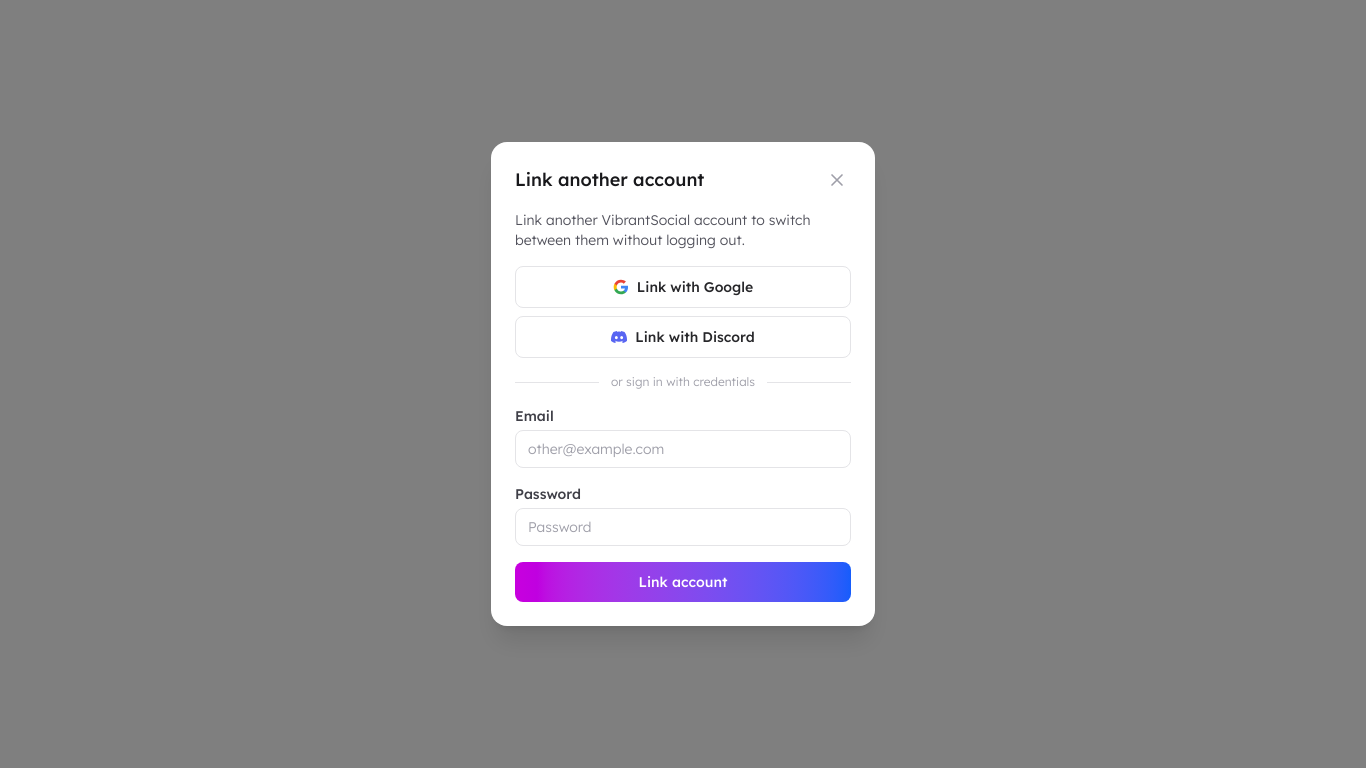
Test: LinkAccountModal › shows Redirecting text when OAuth button is clicked
The width and height of the screenshot is (1366, 768).
Click the button with test id "link-google-button" at {"x": 683, "y": 287}, box x1=515 y1=266 x2=851 y2=308
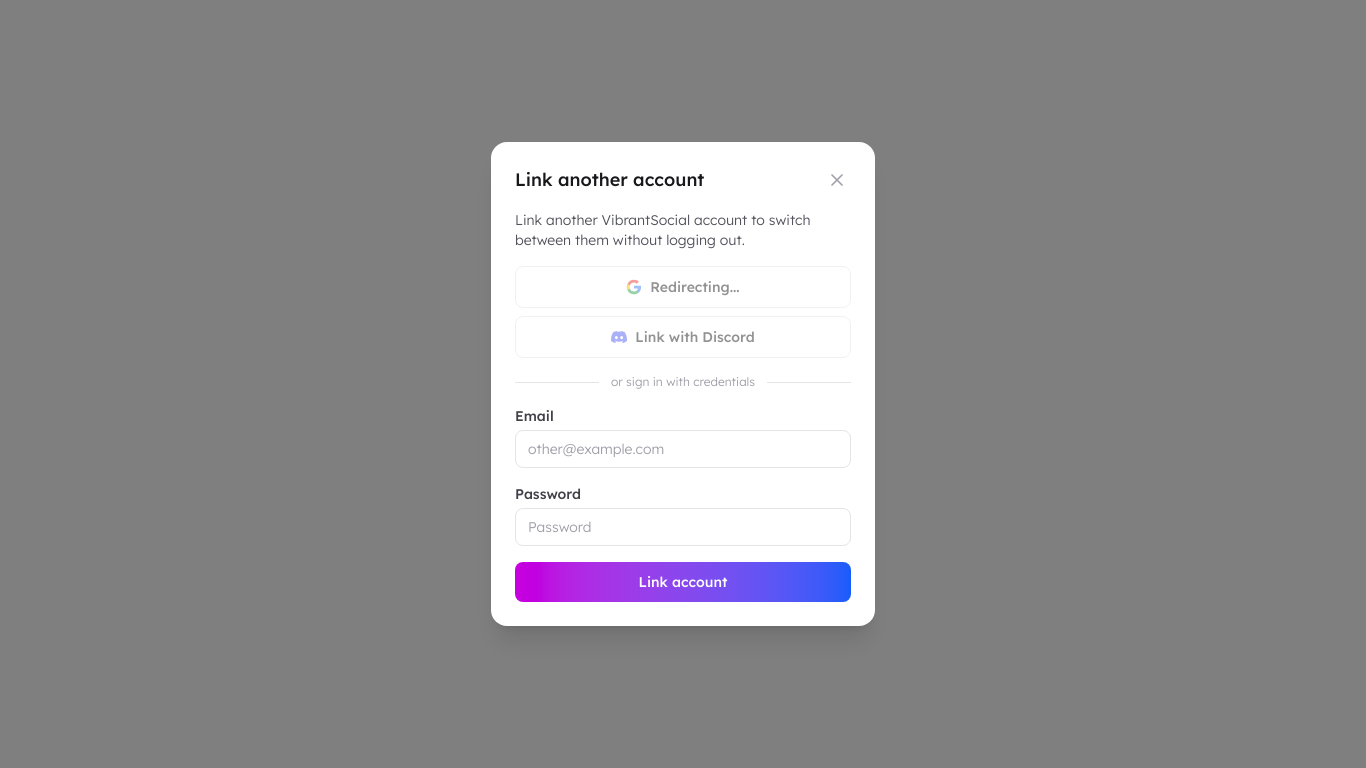
Check: the button with test id "link-google-button" reads "Redirecting...", box x1=515 y1=266 x2=851 y2=308
